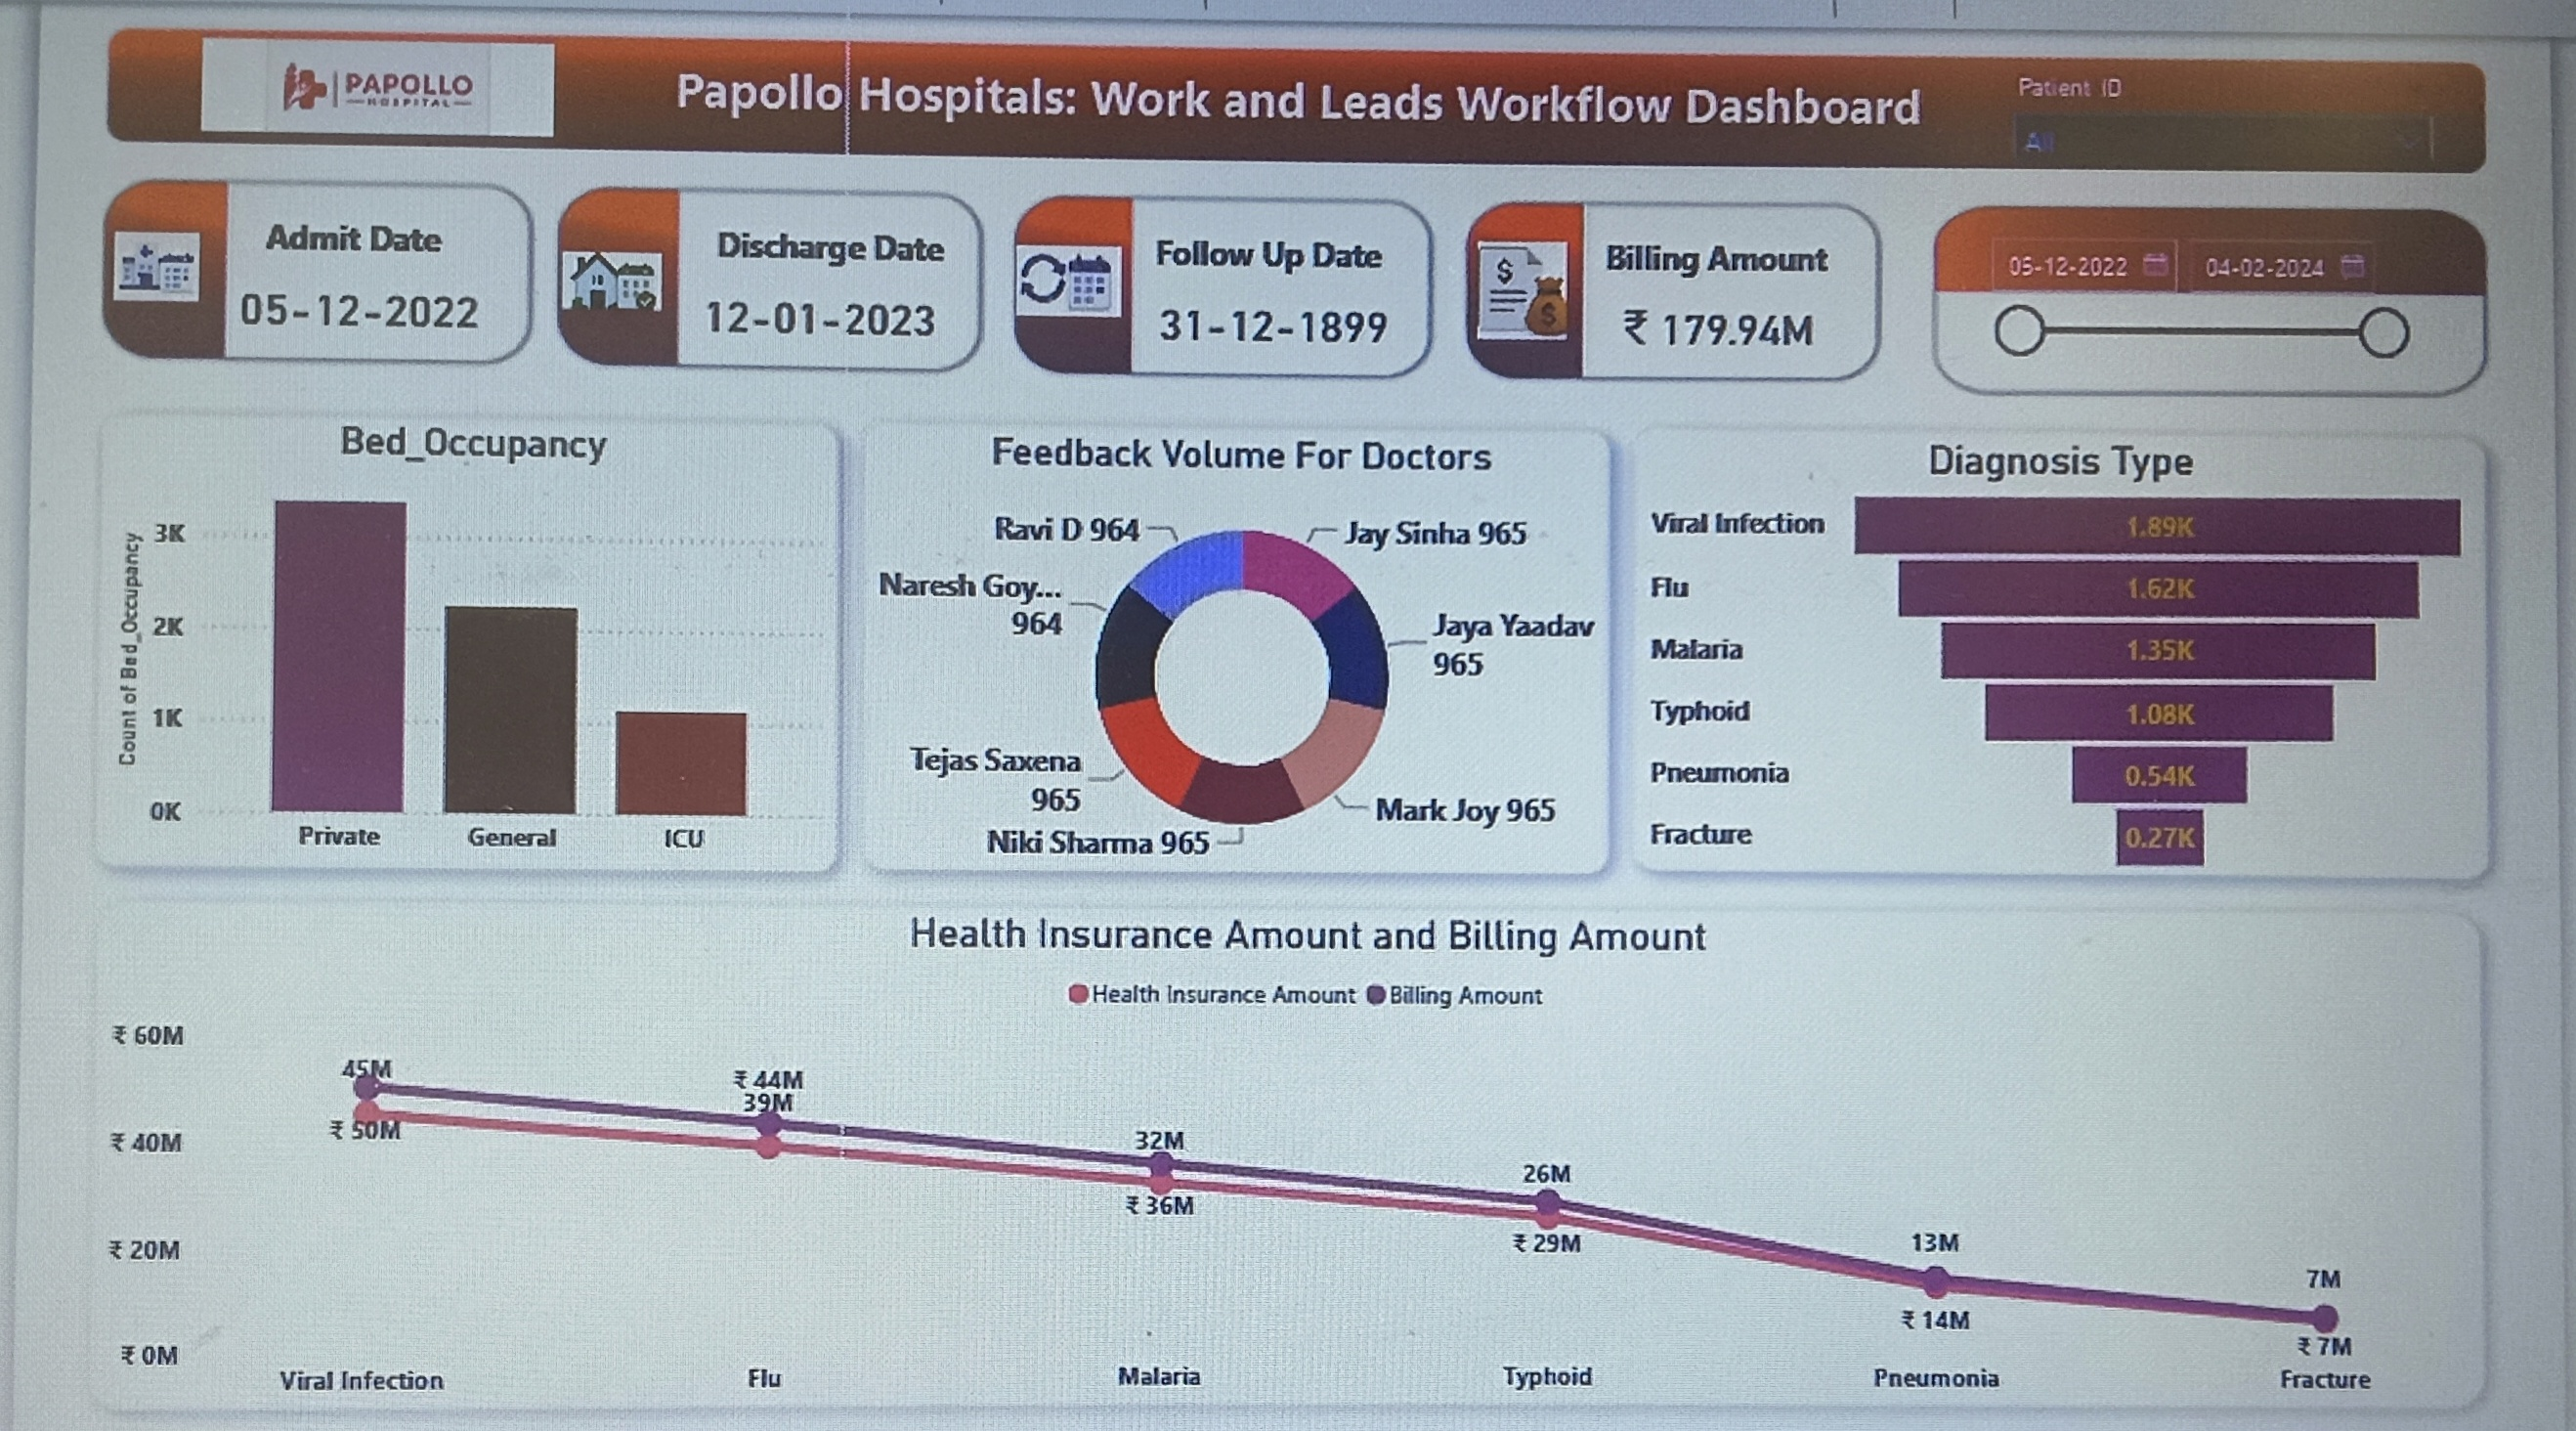

This screenshot's page, from the dashboard's own definition file:
{"tool":"powerbi","page":{"name":"Page 1","canvas":[1280,720],"ordinal":0},"visuals":[{"type":"image","box":[80.6,19.5,175.1,47.3],"z":0},{"type":"textbox","box":[311.4,19.5,649.1,47.3],"z":1000},{"type":"slicer","fields":{"Values":["Sheet1.Patient_ID"]},"box":[989.7,18.1,237.7,48.6],"z":2000},{"type":"card","fields":{"Values":["Min(Sheet1.Admit_Date)"]},"box":[93.1,136.2,136.2,40.3],"z":3000},{"type":"textbox","box":[108.4,104.2,120.9,32],"z":4000},{"type":"textbox","box":[333.6,104.2,125.1,32],"z":5000},{"type":"card","fields":{"Values":["Min(Sheet1.Discharge_Date)"]},"box":[322.5,136.2,136.2,40.3],"z":6000},{"type":"textbox","box":[554.6,104.2,134.8,32],"z":7000},{"type":"card","fields":{"Values":["Min(Sheet1.Followup Date)"]},"box":[553.2,136.2,136.2,40.3],"z":8000},{"type":"textbox","box":[785.3,104.2,134.8,32],"z":9000},{"type":"card","fields":{"Values":["Sum(Sheet1.Billing Amount)"]},"box":[781.2,136.2,136.2,40.3],"z":10000},{"type":"slicer","fields":{"Values":["Sheet1.Admit_Date"]},"box":[975.8,97.3,251.6,77.8],"z":11000},{"type":"image","box":[38.9,118.1,41.7,34.7],"z":12000},{"type":"image","box":[261.3,123.7,50,29.2],"z":13000},{"type":"image","box":[487.9,116.8,55.6,36.1],"z":14000},{"type":"image","box":[725.6,111.2,45.9,50],"z":15000},{"type":"columnChart","title":"Bed_Occupancy ","fields":{"Category":["Sheet1.Bed_Occupancy"],"Y":["CountNonNull(Sheet1.Bed_Occupancy)"]},"box":[38.9,209.9,357.2,228],"z":16000},{"type":"donutChart","title":"Feedback Volume For Doctors","fields":{"Y":["CountNonNull(Sheet1.Doctor)"],"Category":["Sheet1.Doctor"]},"box":[414.2,209.9,380.8,228],"z":17000},{"type":"funnel","title":"Diagnosis Type","fields":{"Category":["Sheet1.Diagnosis"],"Y":["CountNonNull(Sheet1.Diagnosis)"]},"box":[810.3,209.9,430.9,228],"z":18000},{"type":"lineChart","title":"Health Insurance Amount and Billing Amount","fields":{"Y":["Sum(Sheet1.Health Insurance Amount)","Sum(Sheet1.Billing Amount)"],"Category":["Sheet1.Diagnosis"]},"box":[38.9,454.5,1202.3,254.4],"z":19000}]}

Visuals, with their boxes in screenshot pixels (x1, y1, x2, y2), scaled from the page's 1280x720 canvas onto the 2576x1431 screenshot:
image: crop(162, 39, 515, 133)
textbox: crop(626, 39, 1933, 133)
slicer - Sheet1.Patient_ID: crop(1992, 36, 2470, 133)
card - Min(Sheet1.Admit_Date): crop(188, 271, 461, 351)
textbox: crop(218, 207, 461, 271)
textbox: crop(671, 207, 923, 271)
card - Min(Sheet1.Discharge_Date): crop(649, 271, 923, 351)
textbox: crop(1116, 207, 1388, 271)
card - Min(Sheet1.Followup Date): crop(1113, 271, 1388, 351)
textbox: crop(1580, 207, 1852, 271)
card - Sum(Sheet1.Billing Amount): crop(1572, 271, 1846, 351)
slicer - Sheet1.Admit_Date: crop(1964, 194, 2470, 348)
image: crop(78, 235, 162, 304)
image: crop(526, 246, 626, 304)
image: crop(982, 232, 1094, 304)
image: crop(1460, 221, 1553, 321)
"Bed_Occupancy " columnChart: crop(78, 417, 797, 870)
"Feedback Volume For Doctors" donutChart: crop(834, 417, 1600, 870)
"Diagnosis Type" funnel: crop(1631, 417, 2498, 870)
"Health Insurance Amount and Billing Amount" lineChart: crop(78, 903, 2498, 1409)
